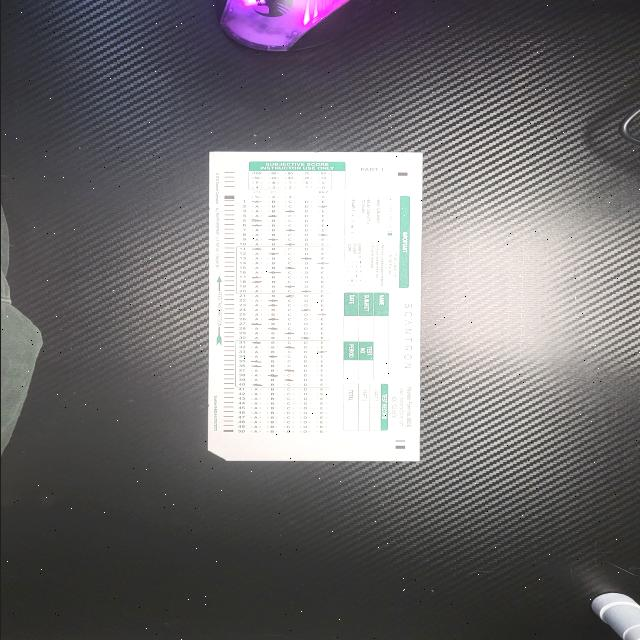scantron: (207, 151, 421, 461)
